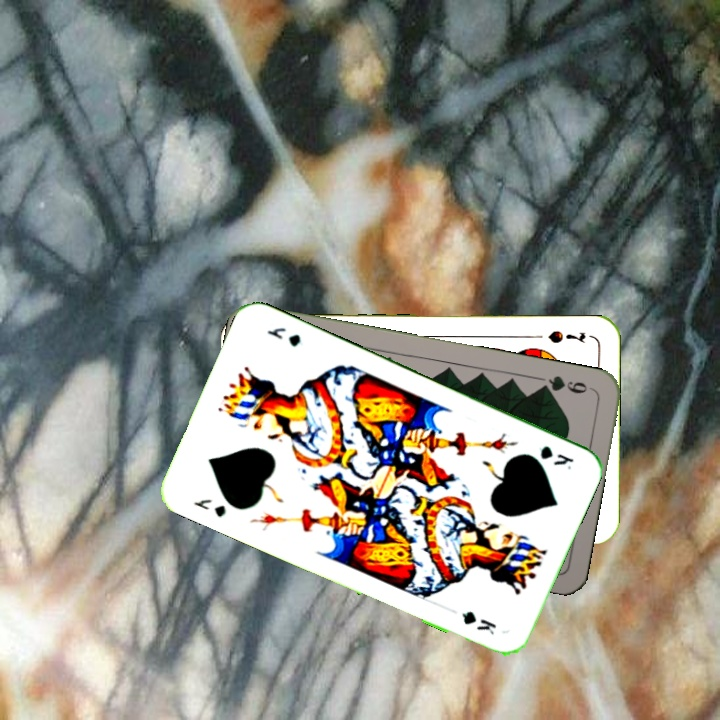G9: (535, 371, 596, 397)
GK: (535, 441, 577, 472), (190, 494, 229, 520)
S7: (544, 326, 588, 346)
